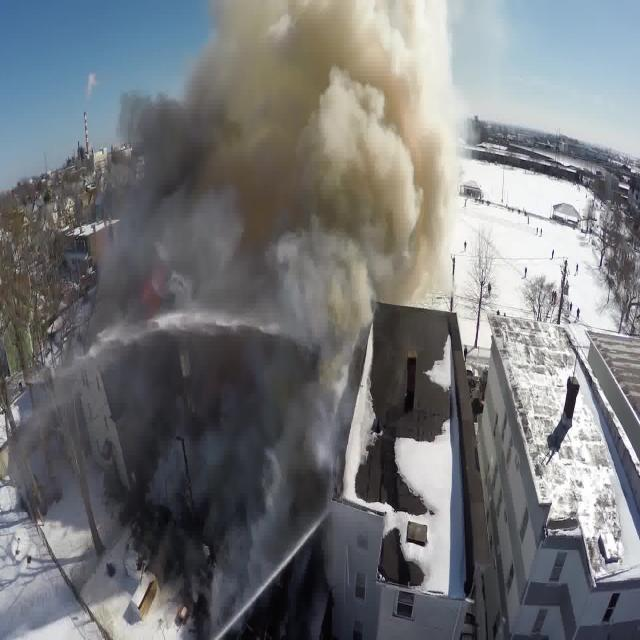Fire: (138, 273, 160, 313)
Smoke: (192, 88, 311, 377), (306, 77, 422, 239)
